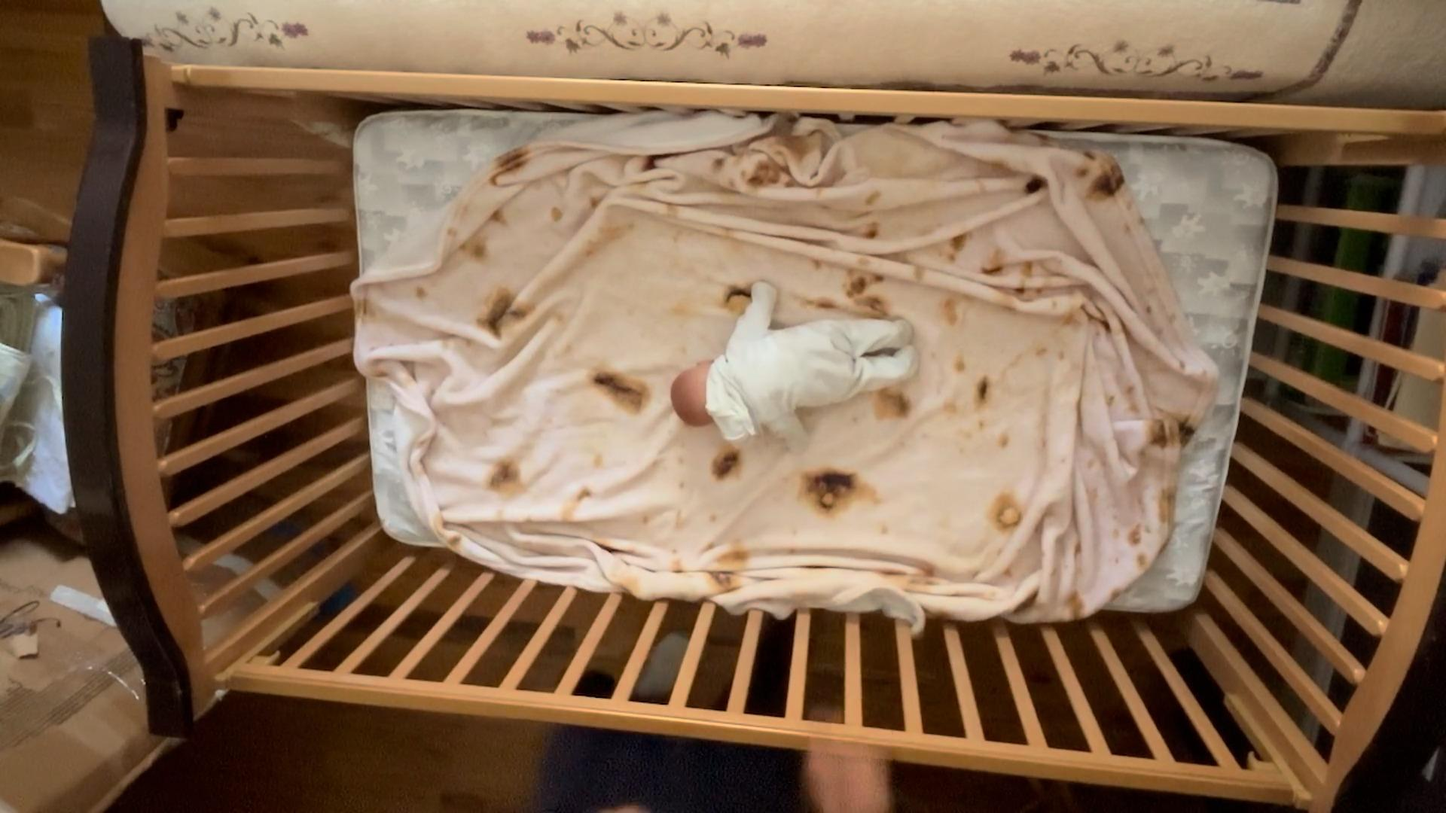baby: (668, 279, 922, 457)
